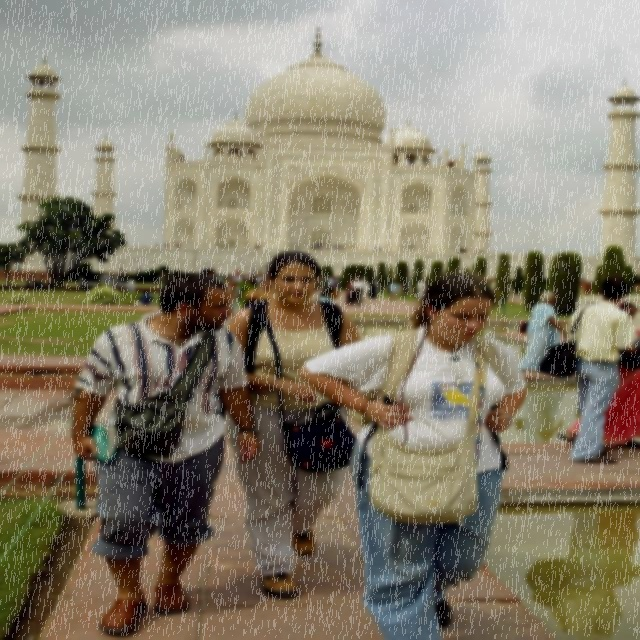pessoa: (295, 269, 547, 639), (66, 270, 266, 640), (220, 249, 362, 596), (524, 470, 640, 640), (565, 276, 639, 465), (556, 301, 640, 450), (179, 570, 310, 631), (520, 290, 568, 372), (198, 267, 266, 283), (222, 276, 238, 318), (314, 285, 340, 304), (351, 276, 367, 306), (233, 284, 244, 317), (286, 244, 344, 250), (136, 290, 155, 306), (126, 243, 184, 248), (388, 279, 399, 303), (367, 276, 378, 300), (360, 277, 370, 302), (416, 278, 427, 299), (406, 248, 434, 255), (126, 276, 136, 294), (396, 281, 407, 297), (457, 248, 485, 254), (77, 274, 86, 292), (346, 278, 356, 294), (317, 276, 325, 292), (492, 250, 517, 255), (322, 276, 330, 290), (118, 278, 126, 292), (97, 272, 105, 286), (374, 278, 380, 295), (327, 274, 335, 286), (112, 274, 120, 286), (102, 272, 109, 284), (32, 279, 39, 291), (578, 286, 586, 296), (331, 278, 339, 288), (110, 280, 118, 290), (584, 282, 590, 294), (96, 280, 105, 288), (491, 278, 496, 292), (507, 282, 512, 296), (47, 280, 55, 288), (366, 246, 382, 250), (119, 266, 125, 275), (42, 280, 48, 289), (316, 274, 322, 282), (88, 280, 95, 286), (218, 244, 228, 248), (37, 280, 43, 286), (581, 274, 586, 281), (26, 279, 30, 287), (136, 267, 140, 275), (16, 264, 21, 270), (253, 244, 260, 248), (594, 252, 601, 256), (139, 268, 143, 274)
